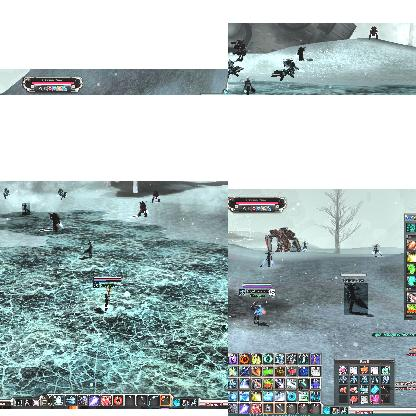caliana: (344, 283, 368, 315), (239, 76, 257, 95), (260, 250, 274, 268), (84, 239, 92, 257), (372, 244, 382, 258), (22, 203, 30, 215), (301, 242, 306, 252)
